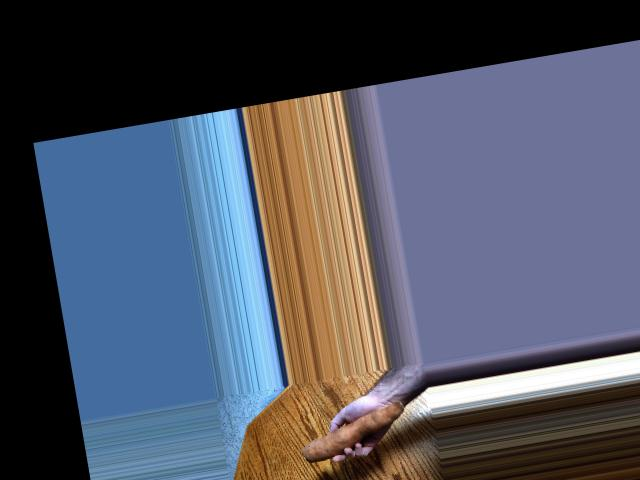sweet_potato: (281, 408, 399, 472)
